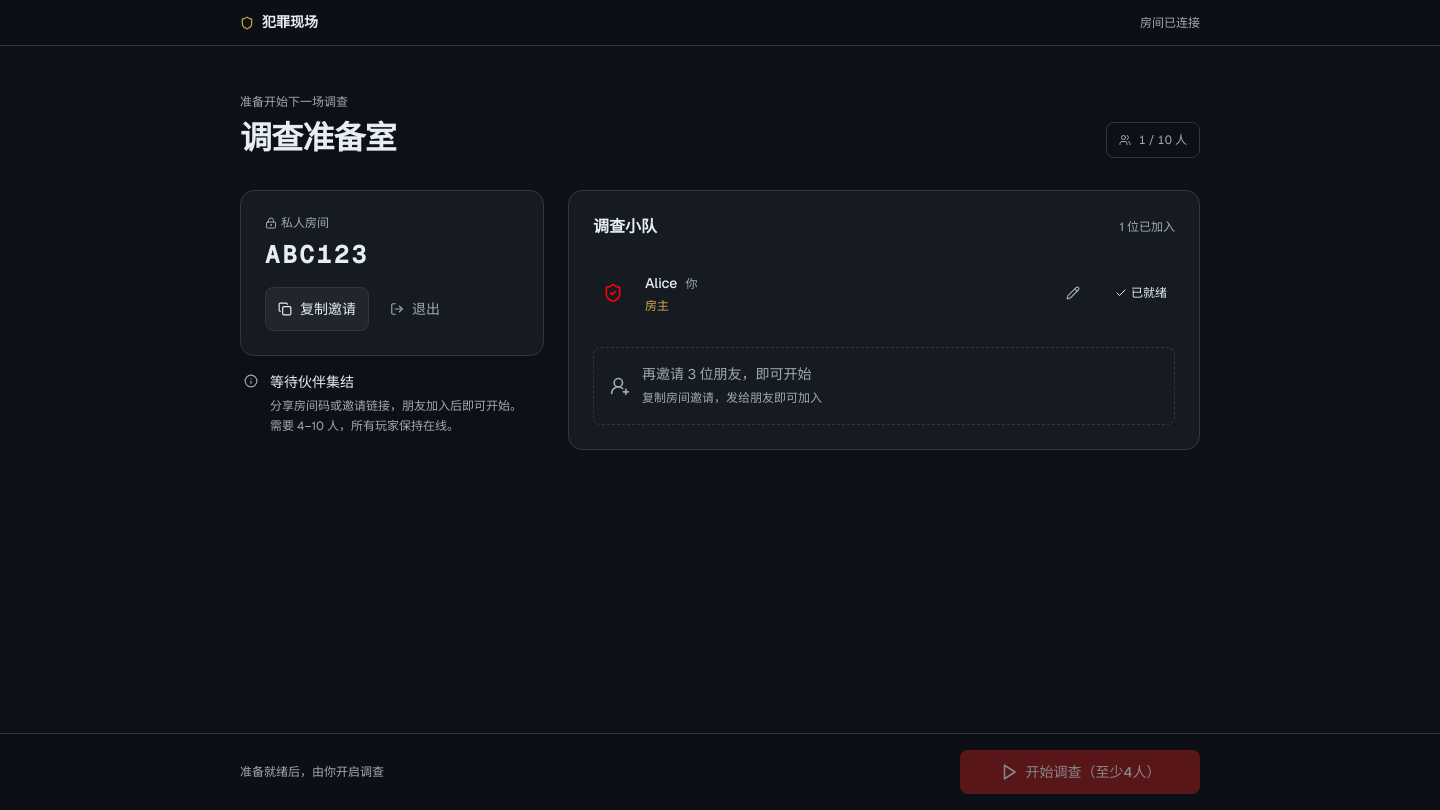
Test: Lobby room entry › copies an invitation with the actual code and join URL
The width and height of the screenshot is (1440, 810).
Step 1. Click the button with aria-label "复制邀请" → (317, 309), box [265,287,369,331]
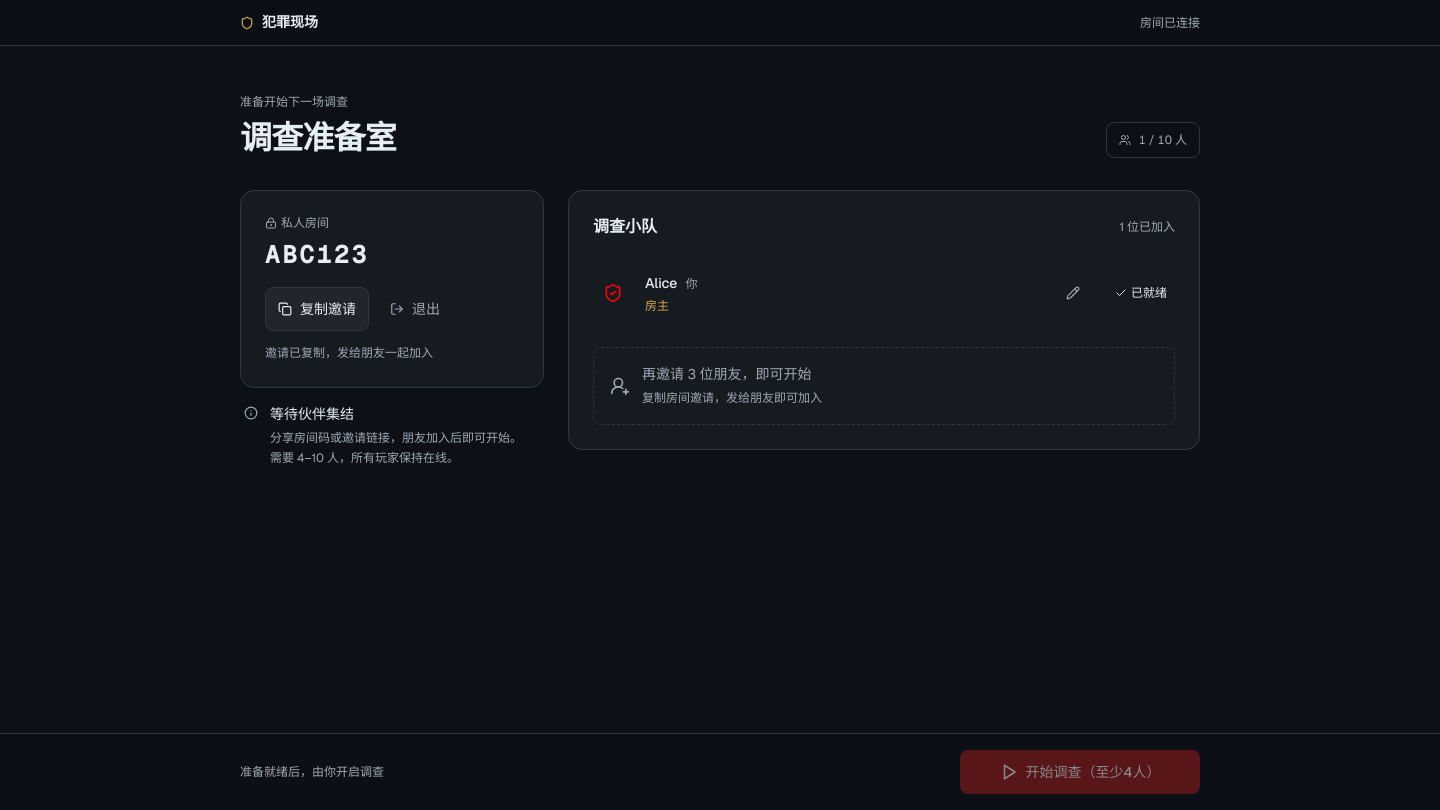
Result: the text "邀请已复制" is shown at [265,345,433,361]
